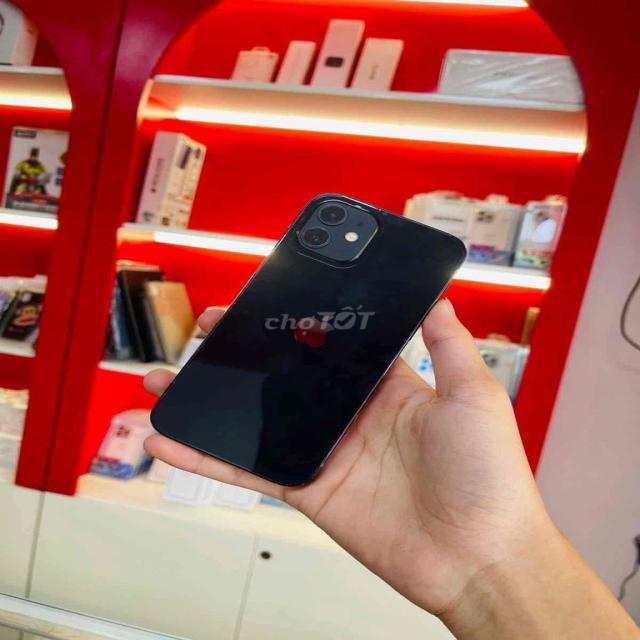gen_12_13: (142, 188, 468, 488)
